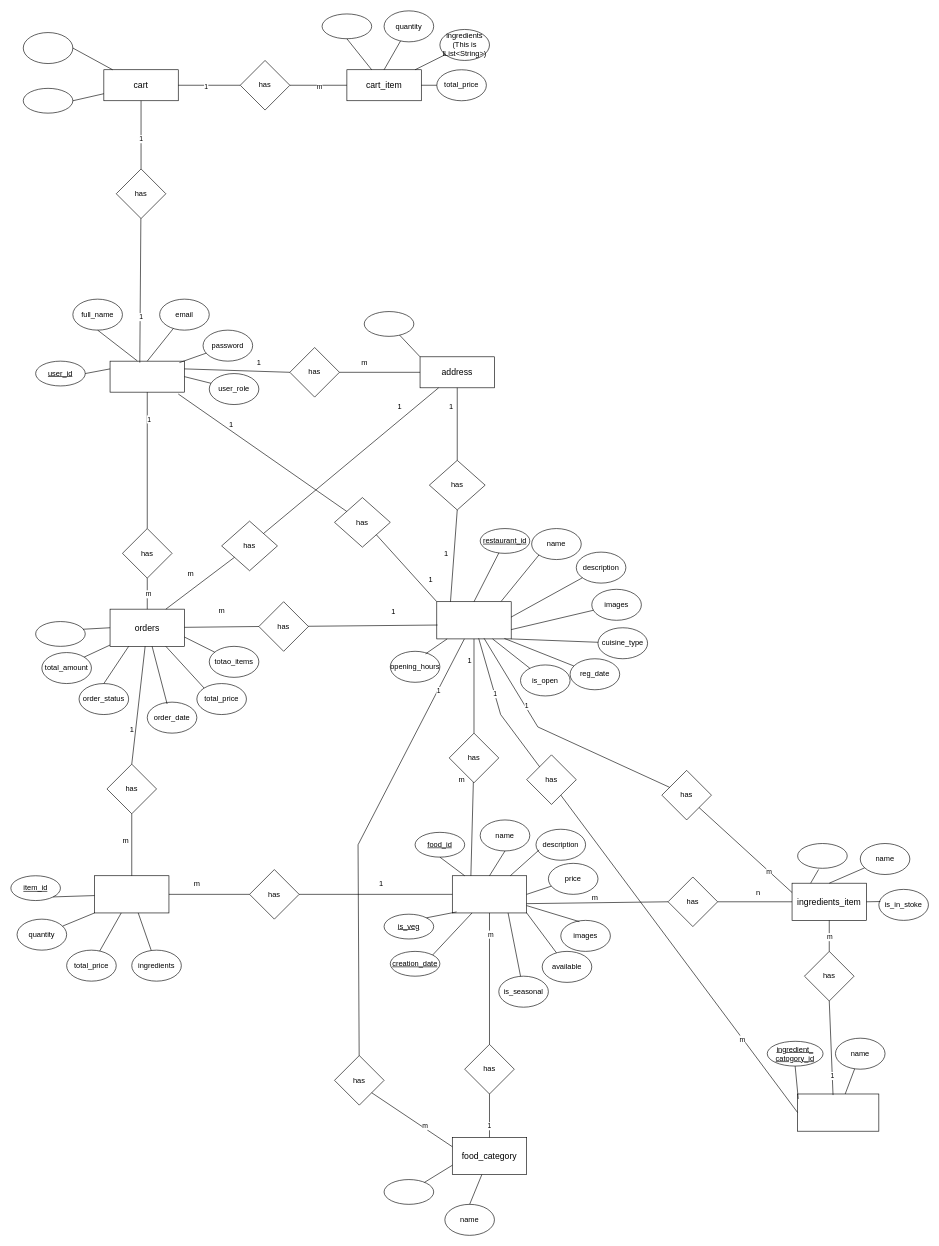
Some shapes in this 939 by 1246 pixel diagram are drawn without their labels. The shapes that lost their labels are listed below. From the top down, each one's centre as x and y in pixels, then its label:
the point at 346,26: cart_item_id
the point at 48,48: total
the point at 48,100: cart_id
the point at 389,323: address_id
the point at 146,376: user
the point at 60,633: order_id
the point at 473,620: restaurant
the point at 822,855: ingredient_id
the point at 131,894: order_item
the point at 489,894: food
the point at 838,1112: ingredient_catogory
the point at 408,1191: food_ category_id
